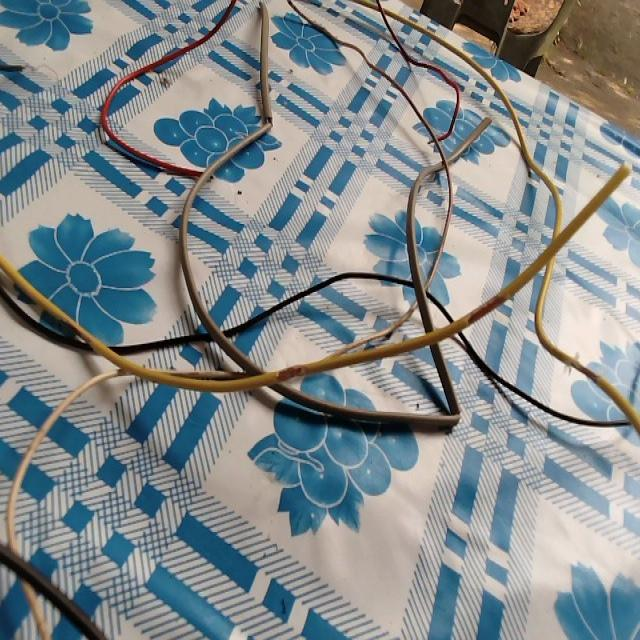-: (467, 290, 504, 326), (568, 351, 604, 386), (57, 311, 88, 344), (276, 361, 309, 383), (261, 109, 275, 131)
